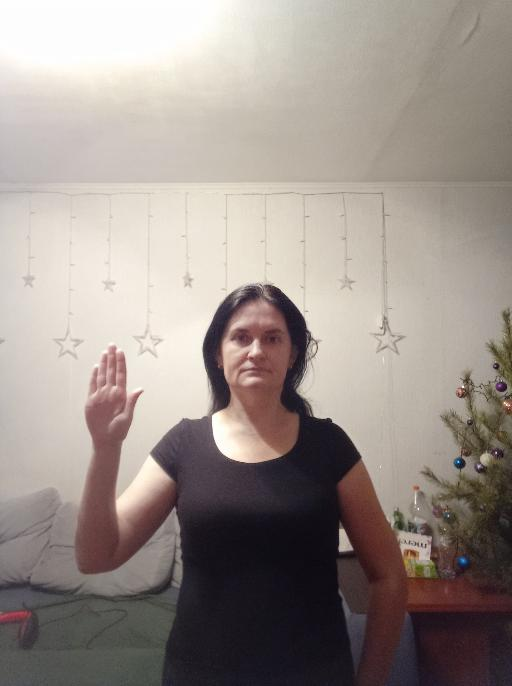stop: (82, 340, 144, 444)
